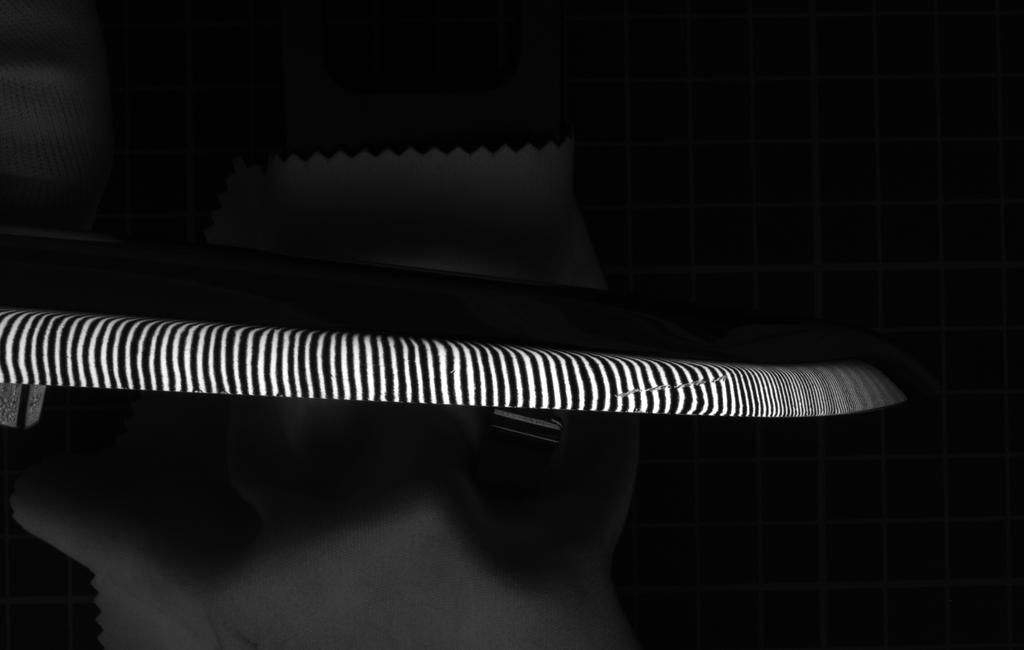Scratch: (600, 374, 747, 403)
